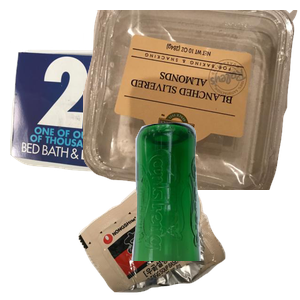glass: (129, 120, 300, 300)
paper: (10, 41, 242, 207)
plastic: (83, 10, 300, 190)
trash: (76, 170, 300, 300)
